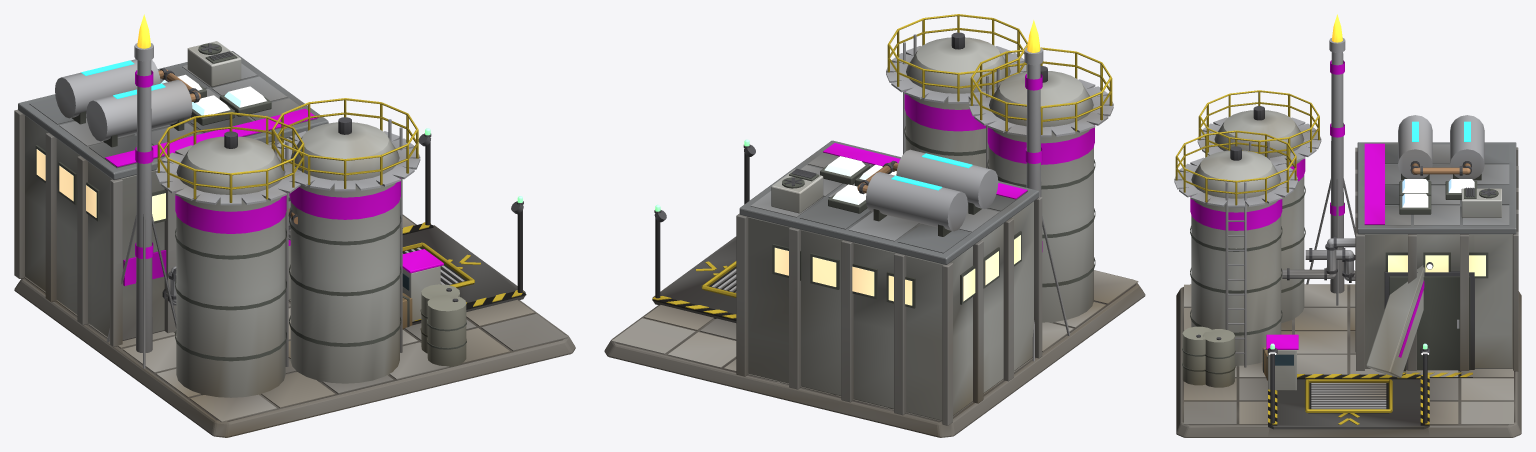
Rendered from refinery.glb.
The picture shows the model from 3 angles, left to right: view 1: azimuth 30°, elevation 25°; view 2: azimuth 150°, elevation 25°; view 3: azimuth 270°, elevation 25°; orthographic projection. The views are drawn at different scales.
Parts seen in each view (by area): view 1: Body; view 2: Body; view 3: Body.
Boxes of the visible parts, x1,y1,x2,y2 form: Body: (14,14,575,437); Body: (604,14,1145,437); Body: (1174,14,1521,437).
Size of the model in its own units: 6.06 by 5.5 by 6.01.
Materials: 1 (1 with a texture image).
